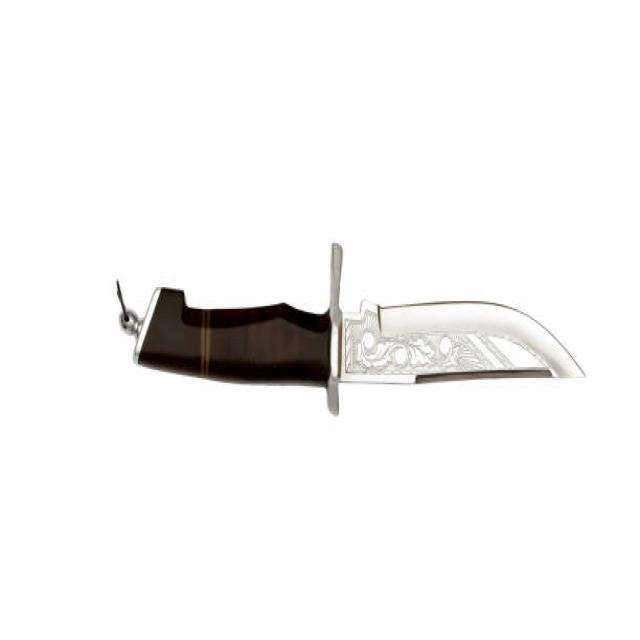knife: (113, 218, 597, 429)
